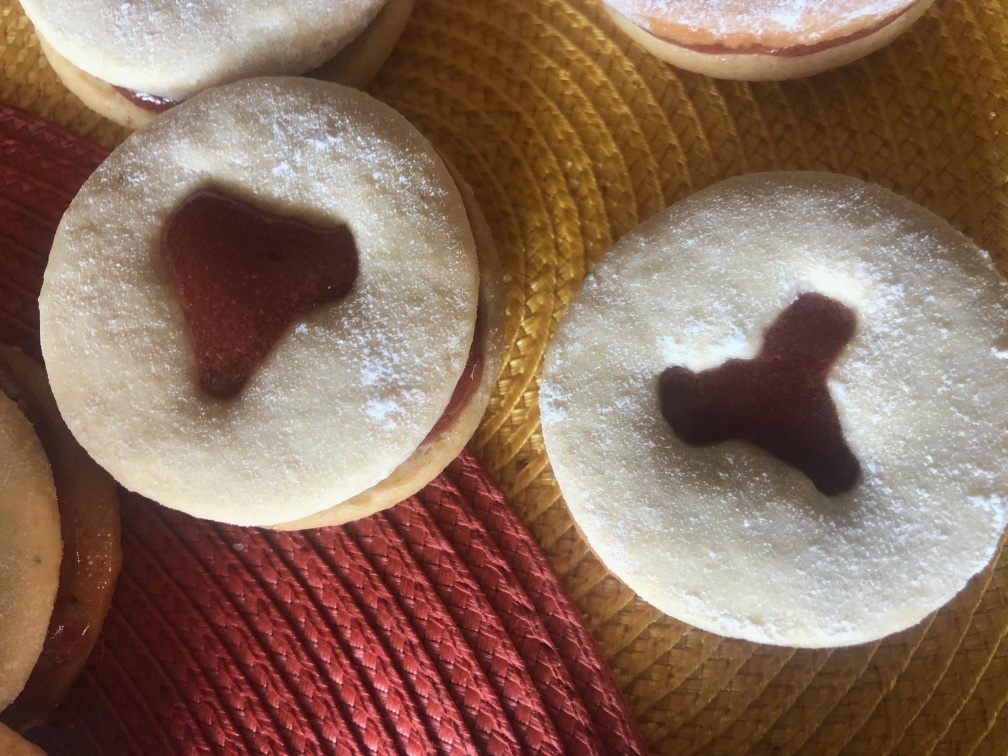christmas shortbread with jam: (537, 160, 1006, 651), (46, 80, 510, 534), (10, 3, 411, 121), (595, 1, 955, 81)
